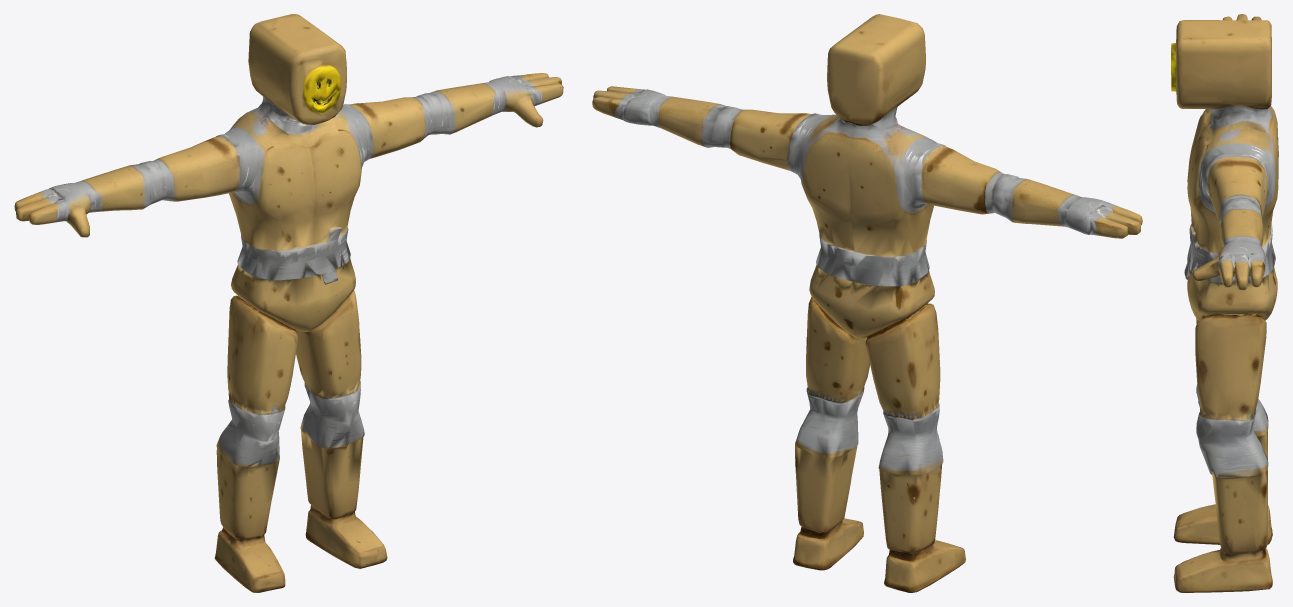
Rendered from foam_dummy2.glb.
The picture shows the model from 3 angles, left to right: view 1: azimuth 30°, elevation 25°; view 2: azimuth 150°, elevation 25°; view 3: azimuth 270°, elevation 25°; orthographic projection.
Size of the model in its own units: 1.9 by 1.76 by 0.3229.
Materials: 1 (1 with a texture image).
